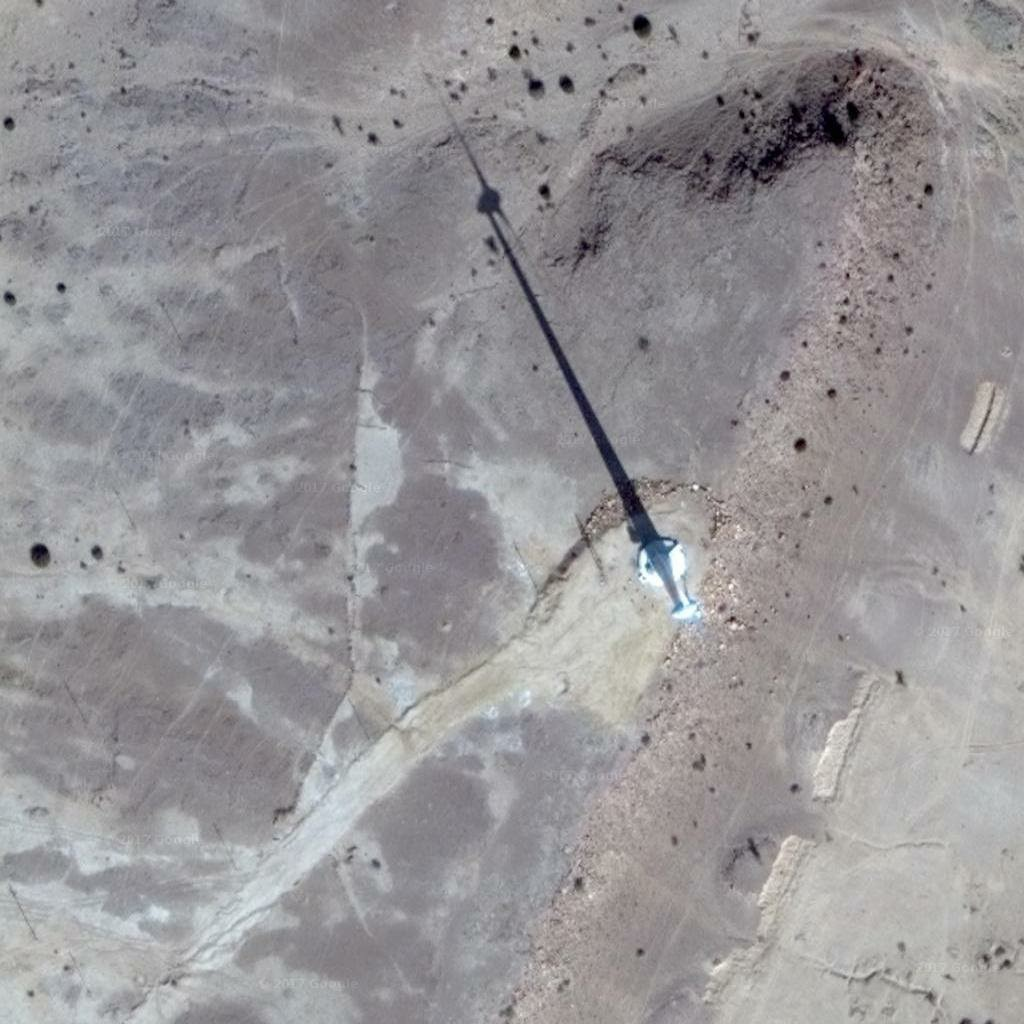Windmill: (433, 135, 711, 560)
